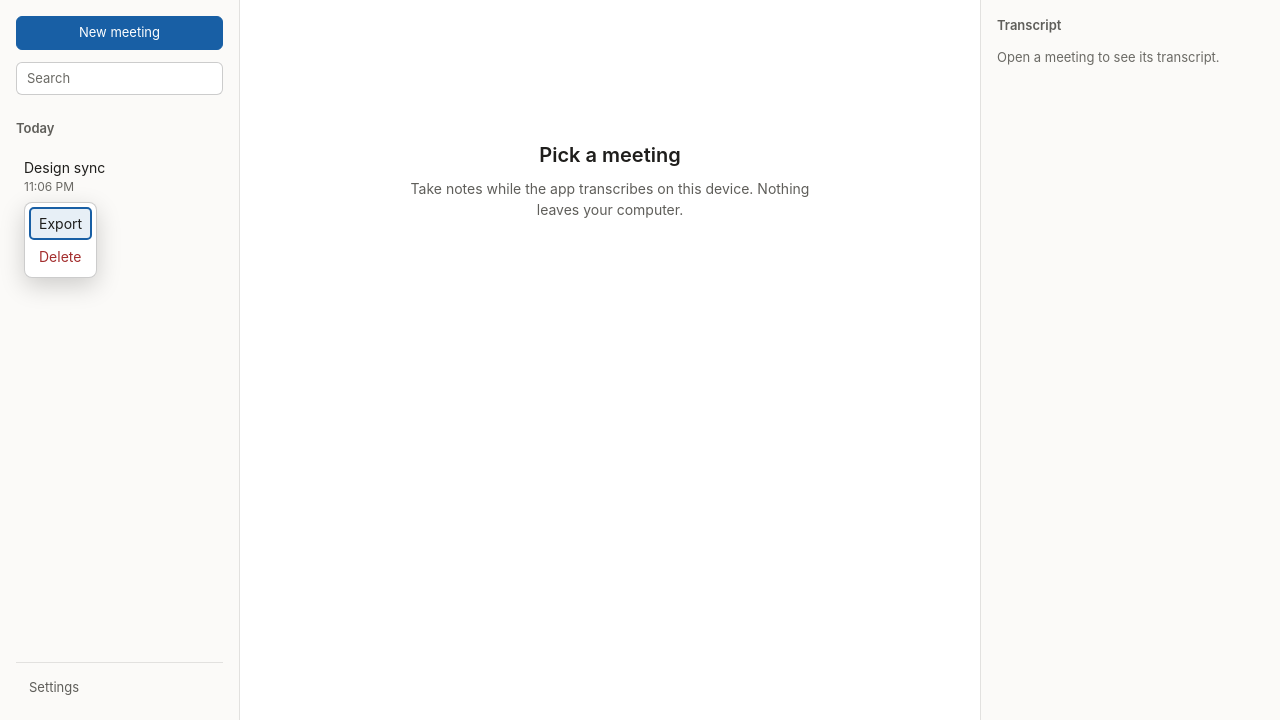
App › meeting menu › exports a meeting to the file you pick, as its Export button does
Click the menu item "Export" at (61, 223), box [29,206,92,240]
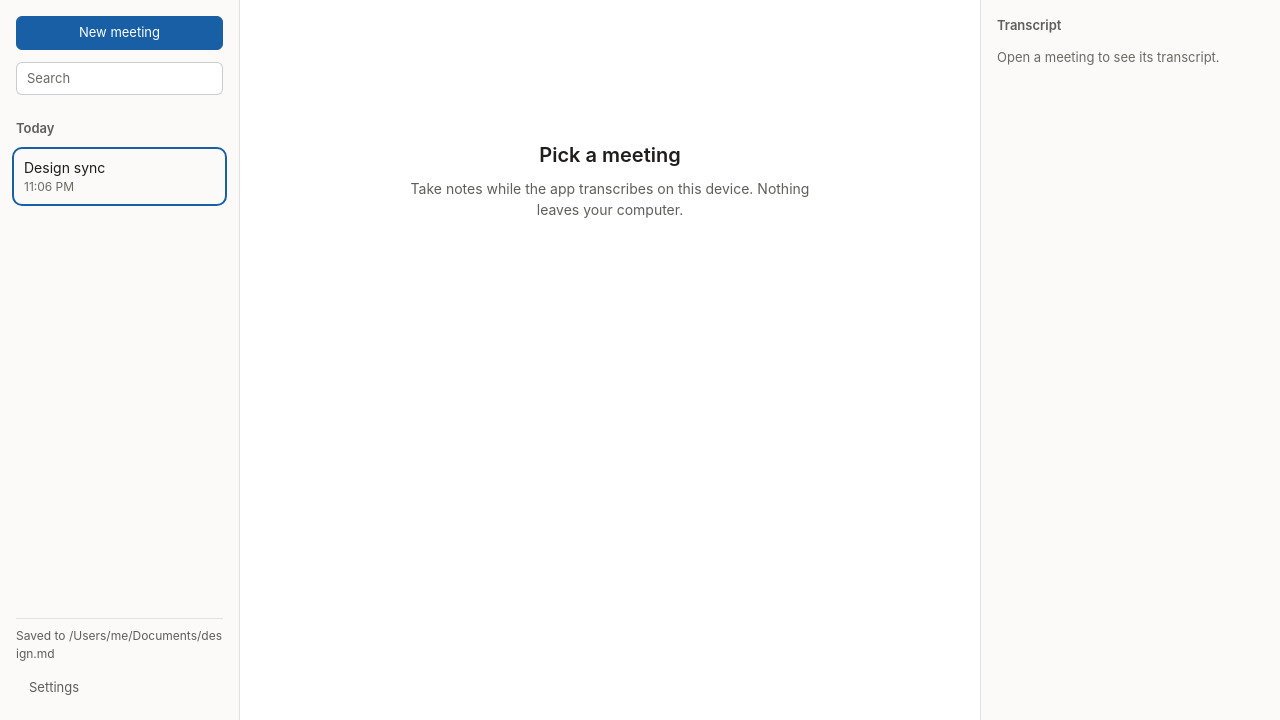
Now the text "/Users/me/Documents/design.md" is shown, box [16,628,222,660]
Now the menu is gone
